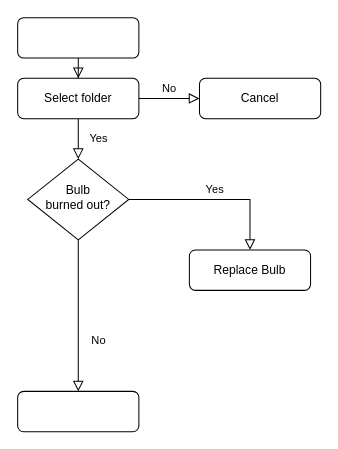
Image size: 338x449. Some labels were removed from this diagram. The centre of each missing label's shape, as x and y in pixels:
"Repair Lamp" belongs at point (78, 411).
"Start" belongs at point (78, 37).
